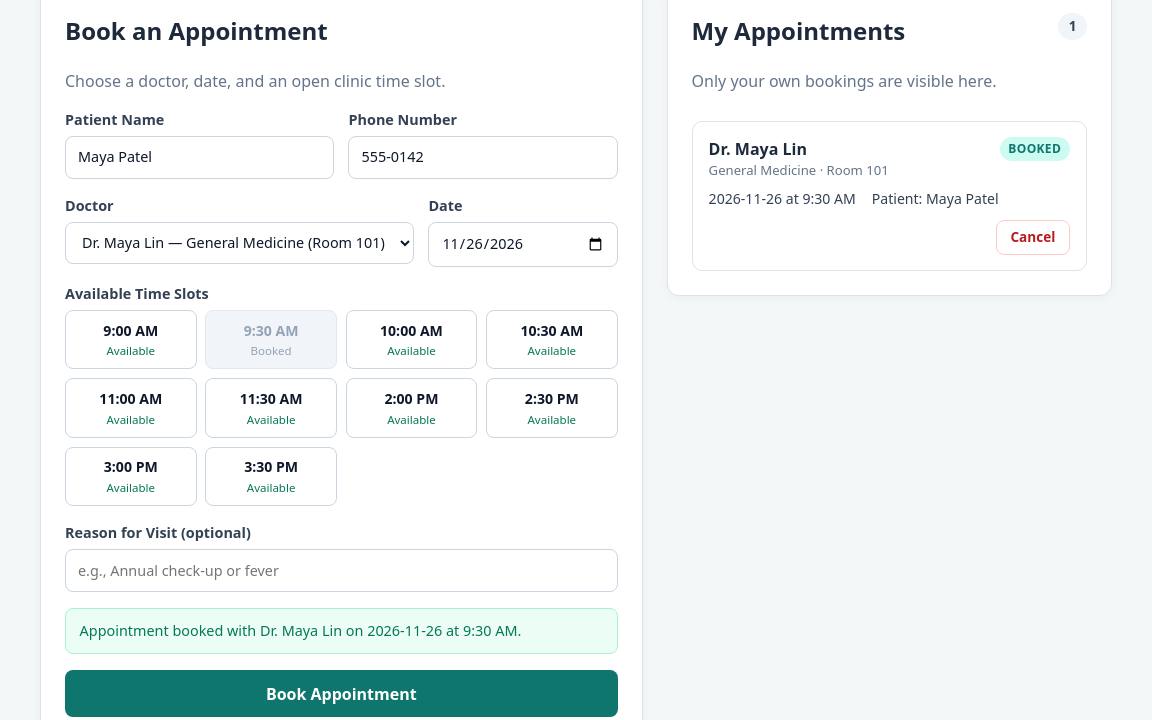
Test: Phase 1 — Patient Booking and Cancellation › books an appointment, shows it in My Appointments, and frees the slot when cancelled
Earlier steps of the test are not shown.
(page scrolled)
Expected: the text "booked" is shown, [1000, 137, 1070, 161]
Expected: the button "9:30 AM Booked" is disabled, [205, 310, 337, 370]
Click the button "Cancel": (1033, 238) [996, 220, 1070, 255]
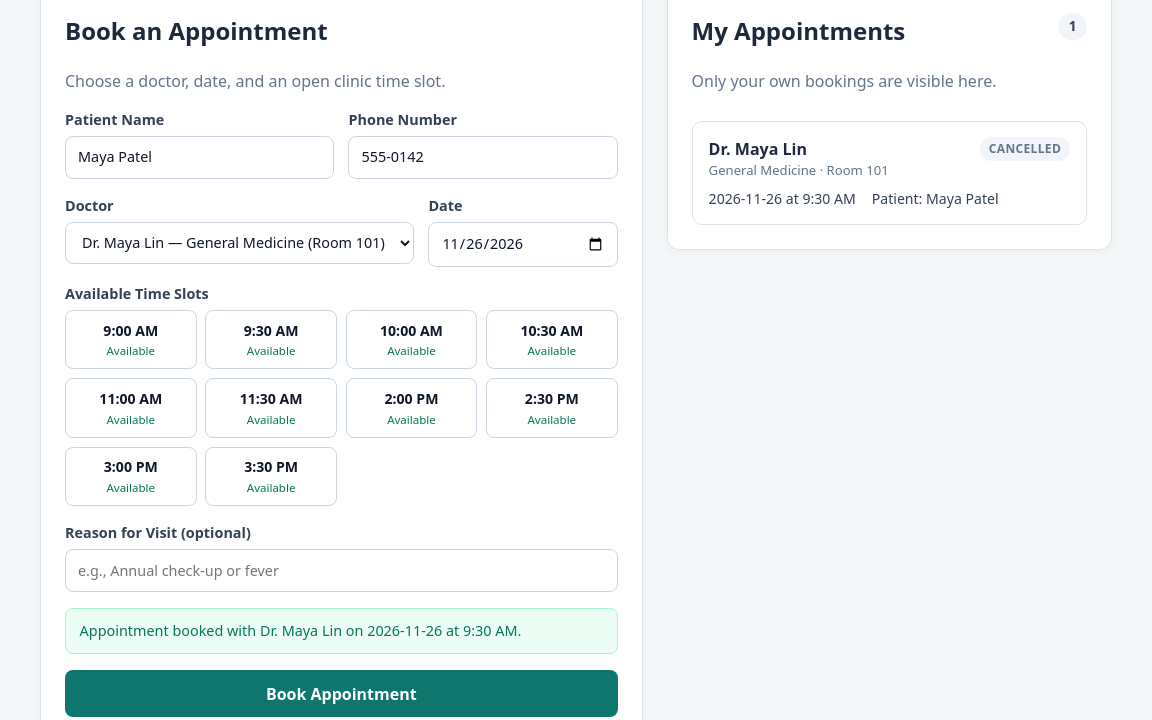
Result: the text "cancelled" is shown at [980, 137, 1070, 161]
Result: the button "9:30 AM Available" is enabled at [205, 310, 337, 370]
